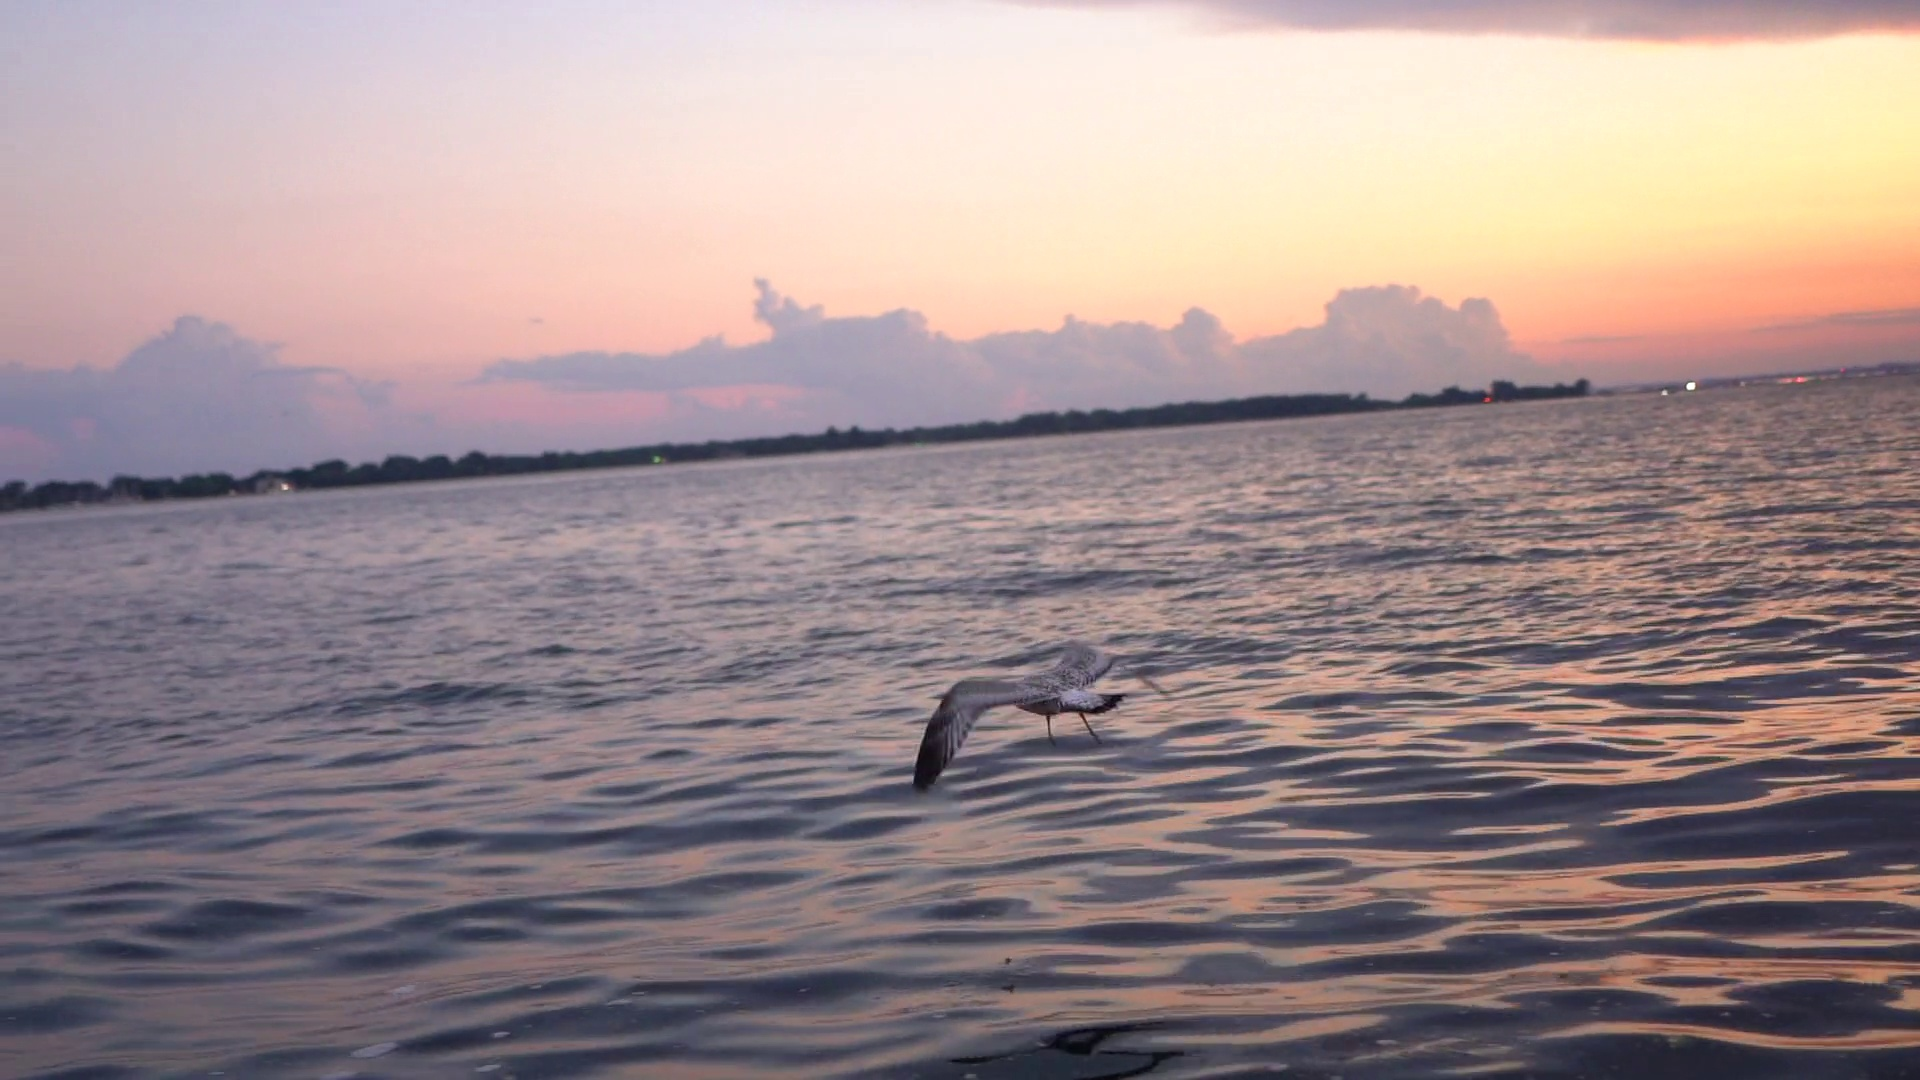bird: (911, 645, 1124, 794)
